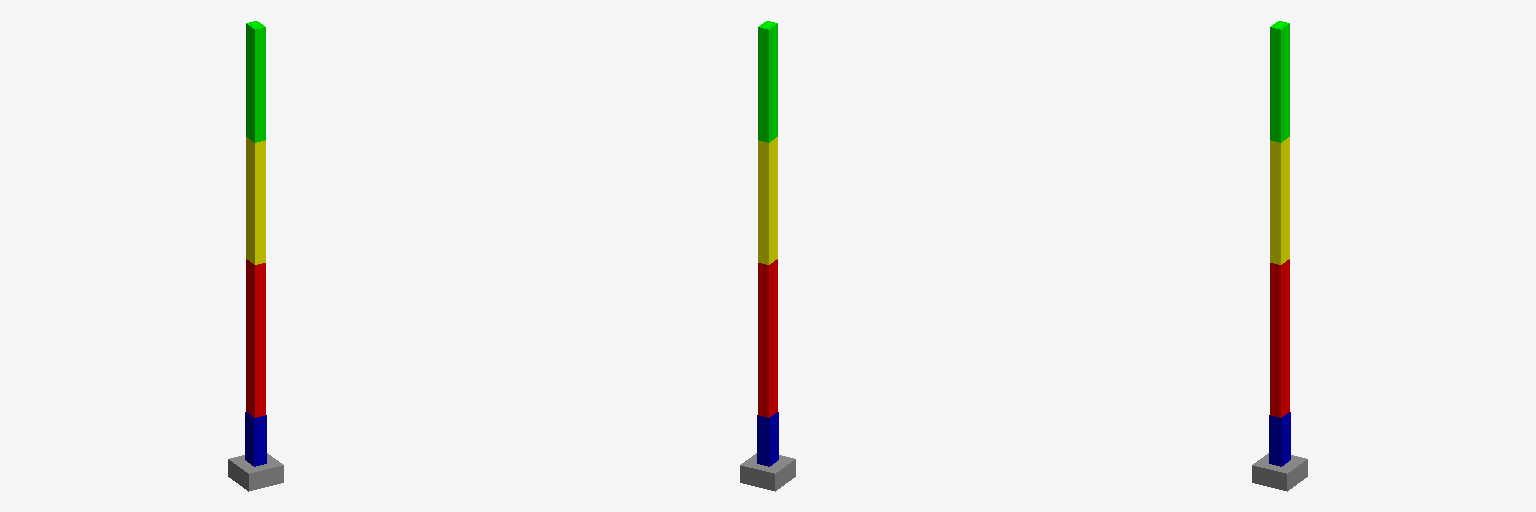
The robot description file, URDF, robot "omnipointer":
<?xml version="1.0" ?>
<!-- =================================================================================== -->
<!-- |    This document was autogenerated by xacro from omni_description/robots/omnipointer_arm_only.urdf.xacro | -->
<!-- |    EDITING THIS FILE BY HAND IS NOT RECOMMENDED                                 | -->
<!-- =================================================================================== -->
<robot name="omnipointer" xmlns:xacro="http://ros.org/wiki/xacro">
  <!--MX64trntbl + MX106:  ? + 0.153 -->
  <!-- singleaxismount + 2.5girder + singleaxismount + base + MX106: 0.007370876 + 0.0226796 + 0.007370876 + ? + 0.153 -->
  <!-- frame106 + singleaxismount + adjustgirder + singleaxismount + base + MX28: 0.0907185 + 0.00737088 + 0.110563 + 0.00737088 + ? + 0.077 -->
  <!-- frame28 + singleaxismount + 5girder + singleaxismount + base + MX28: 0.0907185 + 0.00737088 + 0.0368544 + 0.00737088 + ? + 0.077 -->
  <!-- frame28 + singleaxismount + 2.5girder + singleaxismount + tip: 0.0907185 + 0.00737088 + 0.0226796 + 0.00737088 + ? -->
  <material name="omni/Blue">
    <color rgba="0 0 0.8 1"/>
  </material>
  <material name="omni/Red">
    <color rgba="1 0 0 1"/>
  </material>
  <material name="omni/Green">
    <color rgba="0 1 0 1"/>
  </material>
  <material name="omni/Yellow">
    <color rgba="1 1 0 1"/>
  </material>
  <material name="omni/LightGrey">
    <color rgba="0.6 0.6 0.6 1"/>
  </material>
  <material name="omni/DarkGrey">
    <color rgba="0.4 0.4 0.4 1"/>
  </material>
  <!-- Now we can start using the macros xacro:included above to define the actual omnipointer -->
  <!-- The first use of a macro.  This one was defined in youbot_base/base.urdf.xacro above.
       A macro like this will expand to a set of link and joint definitions, and to additional
       Gazebo-related extensions (sensor plugins, etc).  The macro takes an argument, name,
       that equals "base", and uses it to generate names for its component links and joints
       (e.g., base_link).  The xacro:included origin block is also an argument to the macro.  By convention,
       the origin block defines where the component is w.r.t its parent (in this case the parent
       is the world frame). For more, see http://www.ros.org/wiki/xacro -->
  <!-- foot for arm-->
  <link name="base_link">
    <inertial>
      <origin rpy="0 0 0" xyz="0 0 0"/>
      <mass value="10.0"/>
      <inertia ixx="0.1" ixy="0" ixz="0" iyy="0.1" iyz="0" izz="0.1"/>
    </inertial>
  </link>
  <!-- joint between base_link and arm_0_link -->
  <joint name="arm_joint_0" type="fixed">
    <origin rpy="0 0 0" xyz="0 0 0"/>
    <parent link="base_link"/>
    <child link="arm_link_0"/>
  </joint>
  <link name="arm_link_0">
    <visual>
      <origin rpy="0 0 0" xyz="0 0 0.02725"/>
      <geometry>
        <box size="0.1143 0.1143 0.0545"/>
      </geometry>
      <material name="omni/LightGrey"/>
    </visual>
    <collision>
      <origin rpy="0 0 0" xyz="0 0 0.02725"/>
      <geometry>
        <box size="0.1143 0.1143 0.0545"/>
      </geometry>
    </collision>
    <inertial>
      <!-- CENTER OF MASS -->
      <origin rpy="0 0 0" xyz="0 0 0.02725"/>
      <mass value="0.2"/>
      <!-- box inertia: 1/12*m(y^2+z^2), ... -->
      <inertia ixx="0.000267245666667" ixy="0" ixz="0" iyy="0.000267245666667" iyz="0" izz="0.000435483"/>
    </inertial>
  </link>
  <joint name="arm_joint_1" type="revolute">
    <parent link="arm_link_0"/>
    <child link="arm_link_1"/>
    <dynamics damping="3.0" friction="0.3"/>
    <limit effort="30.0" lower="-3.1415926535" upper="3.1415926535" velocity="5.0"/>
    <origin rpy="0 0 0" xyz="0 0 0.0545"/>
    <axis xyz="0 0 1"/>
  </joint>
  <link name="arm_link_1">
    <visual>
      <origin rpy="0 0 0" xyz="0 0 0.075"/>
      <geometry>
        <box size="0.0402 0.05 0.15"/>
      </geometry>
      <material name="omni/Blue"/>
    </visual>
    <collision>
      <origin rpy="0 0 0" xyz="0 0 0.075"/>
      <geometry>
        <box size="0.0402 0.05 0.15"/>
      </geometry>
    </collision>
    <inertial>
      <!-- CENTER OF MASS -->
      <origin rpy="0 0 0" xyz="0 0 0.075"/>
      <mass value="0.190421352"/>
      <!-- box inertia: 1/12*m(y^2+z^2), ... -->
      <inertia ixx="0.000279744834534" ixy="0" ixz="0" iyy="0.000265717763008" iyz="0" izz="6.53151584738e-05"/>
    </inertial>
  </link>
  <joint name="arm_joint_2" type="revolute">
    <parent link="arm_link_1"/>
    <child link="arm_link_2"/>
    <dynamics damping="3.0" friction="0.3"/>
    <limit effort="30.0" lower="-1.57079632679" upper="1.57079632679" velocity="5.0"/>
    <origin rpy="0 0 0" xyz="0 0 0.15"/>
    <axis xyz="0 1 0"/>
  </joint>
  <link name="arm_link_2">
    <visual>
      <origin rpy="0 0 0" xyz="0 0 0.2355"/>
      <geometry>
        <box size="0.0356 0.05 0.471"/>
      </geometry>
      <material name="omni/Red"/>
    </visual>
    <collision>
      <origin rpy="0 0 0" xyz="0 0 0.2355"/>
      <geometry>
        <box size="0.0356 0.05 0.471"/>
      </geometry>
    </collision>
    <inertial>
      <!-- CENTER OF MASS -->
      <origin rpy="0 0 0" xyz="0 0 0.2355"/>
      <mass value="0.29302326"/>
      <!-- box inertia: 1/12*m(y^2+z^2), ... -->
      <inertia ixx="0.00251484771035" ixy="0" ixz="0" iyy="0.00248474836108" iyz="0" izz="9.19936757328e-05"/>
    </inertial>
  </link>
  <joint name="arm_joint_3" type="revolute">
    <parent link="arm_link_2"/>
    <child link="arm_link_3"/>
    <dynamics damping="3.0" friction="0.3"/>
    <limit effort="30.0" lower="-1.57079632679" upper="1.57079632679" velocity="5.0"/>
    <origin rpy="0 0 0" xyz="0 0 0.471"/>
    <axis xyz="0 1 0"/>
  </joint>
  <link name="arm_link_3">
    <visual>
      <origin rpy="0 0 0" xyz="0 0 0.1885"/>
      <geometry>
        <box size="0.0356 0.05 0.377"/>
      </geometry>
      <material name="omni/Yellow"/>
    </visual>
    <collision>
      <origin rpy="0 0 0" xyz="0 0 0.1885"/>
      <geometry>
        <box size="0.0356 0.05 0.377"/>
      </geometry>
    </collision>
    <inertial>
      <!-- CENTER OF MASS -->
      <origin rpy="0 0 0" xyz="0 0 0.1885"/>
      <mass value="0.21931466"/>
      <!-- box inertia: 1/12*m(y^2+z^2), ... -->
      <inertia ixx="0.000791433503053" ixy="0" ixz="0" iyy="0.000768905501178" iyz="0" izz="6.88531064581e-05"/>
    </inertial>
  </link>
  <joint name="arm_joint_4" type="revolute">
    <parent link="arm_link_3"/>
    <child link="arm_link_4"/>
    <dynamics damping="3.0" friction="0.3"/>
    <limit effort="30.0" lower="-1.57079632679" upper="1.57079632679" velocity="5.0"/>
    <origin rpy="0 0 0" xyz="0 0 0.377"/>
    <axis xyz="0 1 0"/>
  </joint>
  <link name="arm_link_4">
    <visual>
      <origin rpy="0 0 0" xyz="0 0 0.1745"/>
      <geometry>
        <box size="0.0356 0.05 0.349"/>
      </geometry>
      <material name="omni/Green"/>
    </visual>
    <collision>
      <origin rpy="0 0 0" xyz="0 0 0.1745"/>
      <geometry>
        <box size="0.0356 0.05 0.349"/>
      </geometry>
    </collision>
    <inertial>
      <!-- CENTER OF MASS -->
      <origin rpy="0 0 0" xyz="0 0 0.1745"/>
      <mass value="0.15813986"/>
      <!-- box inertia: 1/12*m(y^2+z^2), ... -->
      <inertia ixx="0.00037242266488" ixy="0" ixz="0" iyy="0.000356178538461" iyz="0" izz="4.96474819141e-05"/>
    </inertial>
  </link>
  <joint name="arm_joint_5" type="fixed">
    <parent link="arm_link_4"/>
    <child link="arm_link_5"/>
    <origin rpy="0 0 0" xyz="0 0 0.349"/>
  </joint>
  <link name="arm_link_5">
    <inertial>
      <!-- CENTER OF MASS -->
      <origin rpy="0 0 0" xyz="0 0 0"/>
      <mass value="1e-12"/>
      <!-- box inertia: 1/12*m(y^2+z^2), ... -->
      <inertia ixx="1e-12" ixy="0" ixz="0" iyy="1e-12" iyz="0" izz="1e-12"/>
    </inertial>
  </link>
  <!-- END OF ARM LINKS/JOINTS -->
</robot>

--- Facts derived from the render (not from the file) ---
Views: 3 orthographic renders of the robot side by side, from view 1: azimuth 30°, elevation 25°; view 2: azimuth 150°, elevation 25°; view 3: azimuth 330°, elevation 25°.
Model omnipointer with 7 links and 6 joints (4 revolute, 2 fixed), rooted at base_link, posed every joint at zero.
Links seen in each view (by area): view 1: arm_link_2, arm_link_3, arm_link_4, arm_link_0, arm_link_1; view 2: arm_link_2, arm_link_3, arm_link_4, arm_link_0, arm_link_1; view 3: arm_link_2, arm_link_3, arm_link_4, arm_link_0, arm_link_1.
Boxes of the visible links, x1,y1,x2,y2 form: arm_link_2: [246, 259, 265, 417]; arm_link_3: [246, 137, 265, 264]; arm_link_4: [246, 21, 265, 142]; arm_link_0: [228, 453, 283, 491]; arm_link_1: [245, 412, 266, 466]; arm_link_2: [758, 259, 777, 417]; arm_link_3: [758, 137, 777, 264]; arm_link_4: [758, 21, 777, 142]; arm_link_0: [740, 453, 795, 491]; arm_link_1: [757, 412, 778, 466]; arm_link_2: [1270, 259, 1289, 417]; arm_link_3: [1270, 137, 1289, 264]; arm_link_4: [1270, 21, 1289, 142]; arm_link_0: [1252, 453, 1307, 491]; arm_link_1: [1269, 412, 1290, 466].
Size in the robot's own frame: 0.1143 by 0.1143 by 1.4 metres.
Geometry: primitives only (box / cylinder / sphere), no mesh files.
